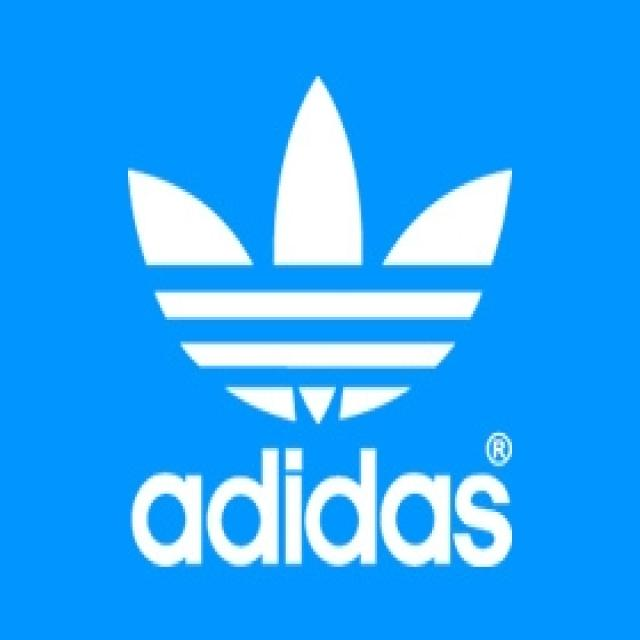adidas: (97, 50, 540, 598)
